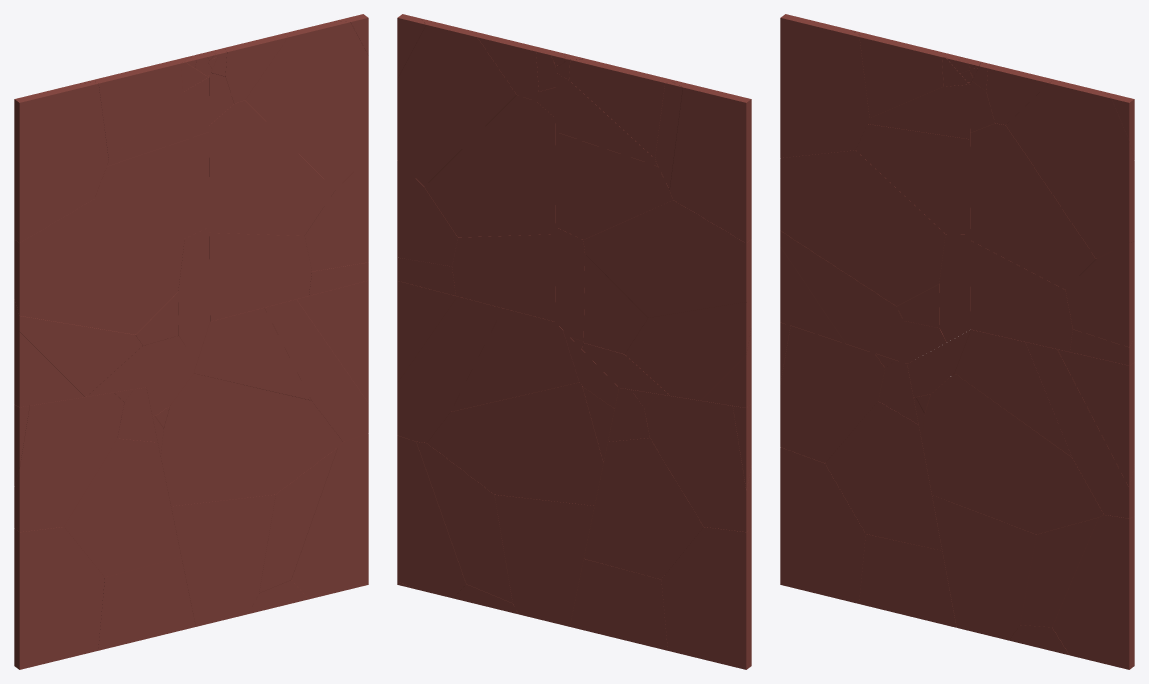
The model's file is wall03_Cx.fbx.
3 views of the same model, side by side, from view 1: azimuth 30°, elevation 25°; view 2: azimuth 150°, elevation 25°; view 3: azimuth 330°, elevation 25° (orthographic).
Parts seen in each view (by area): view 1: wall03_C.001_cell.002_cell.010, wall03_C.001_cell.003_cell.005, wall03_C.001_cell.004_cell.005, wall03_C.001_cell.004_cell.008, wall03_C.001_cell.002_cell, wall03_C.001_cell.001_cell, wall03_C.001_cell.001_cell.003, wall03_C.001_cell.001_cell.007, wall03_C.001_cell.003_cell.008, wall03_C.001_cell.003_cell, wall03_C.001_cell.002_cell.007, wall03_C.001_cell.004_cell.002 (+20 smaller); view 2: wall03_C.001_cell.003_cell.005, wall03_C.001_cell.002_cell.010, wall03_C.001_cell.004_cell.008, wall03_C.001_cell.004_cell.005, wall03_C.001_cell.001_cell.003, wall03_C.001_cell.001_cell, wall03_C.001_cell.002_cell, wall03_C.001_cell.001_cell.007, wall03_C.001_cell.003_cell.008, wall03_C.001_cell.002_cell.009, wall03_C.001_cell.002_cell.007, wall03_C.001_cell.003_cell.004 (+23 smaller); view 3: wall03_C.001_cell.003_cell.005, wall03_C.001_cell.002_cell.010, wall03_C.001_cell.004_cell.005, wall03_C.001_cell.004_cell.008, wall03_C.001_cell.002_cell, wall03_C.001_cell.001_cell.003, wall03_C.001_cell.001_cell.007, wall03_C.001_cell.001_cell, wall03_C.001_cell.003_cell.008, wall03_C.001_cell.003_cell, wall03_C.001_cell.002_cell.007, wall03_C.001_cell.004_cell.002 (+20 smaller).
Boxes of the visible parts, x1,y1,x2,y2 form: wall03_C.001_cell.002_cell.010: (14, 199, 184, 334); wall03_C.001_cell.003_cell.005: (160, 373, 342, 506); wall03_C.001_cell.004_cell.005: (245, 21, 368, 189); wall03_C.001_cell.004_cell.008: (209, 100, 334, 235); wall03_C.001_cell.002_cell: (14, 82, 108, 242); wall03_C.001_cell.001_cell: (14, 527, 104, 669); wall03_C.001_cell.001_cell.003: (64, 438, 181, 577); wall03_C.001_cell.001_cell.007: (14, 392, 124, 532); wall03_C.001_cell.003_cell.008: (171, 494, 275, 626); wall03_C.001_cell.003_cell: (291, 433, 368, 599); wall03_C.001_cell.002_cell.007: (95, 132, 209, 238); wall03_C.001_cell.004_cell.002: (209, 233, 311, 321); wall03_C.001_cell.003_cell.005: (427, 382, 603, 505); wall03_C.001_cell.002_cell.010: (583, 200, 751, 317); wall03_C.001_cell.004_cell.008: (424, 95, 555, 237); wall03_C.001_cell.004_cell.005: (397, 18, 516, 186); wall03_C.001_cell.001_cell.003: (584, 438, 703, 579); wall03_C.001_cell.001_cell: (661, 527, 751, 669); wall03_C.001_cell.002_cell: (669, 80, 751, 243); wall03_C.001_cell.001_cell.007: (644, 394, 751, 531); wall03_C.001_cell.003_cell.008: (494, 494, 594, 626); wall03_C.001_cell.002_cell.009: (625, 302, 751, 400); wall03_C.001_cell.002_cell.007: (555, 132, 672, 239); wall03_C.001_cell.003_cell.004: (397, 296, 502, 442); wall03_C.001_cell.003_cell.005: (921, 373, 1103, 534); wall03_C.001_cell.002_cell.010: (780, 150, 945, 306); wall03_C.001_cell.004_cell.005: (1006, 80, 1134, 258); wall03_C.001_cell.004_cell.008: (970, 123, 1095, 289); wall03_C.001_cell.002_cell: (780, 14, 869, 157); wall03_C.001_cell.001_cell.003: (825, 401, 942, 550); wall03_C.001_cell.001_cell.007: (780, 326, 885, 463); wall03_C.001_cell.001_cell: (780, 447, 865, 603); wall03_C.001_cell.003_cell.008: (932, 495, 1036, 640); wall03_C.001_cell.003_cell: (1052, 515, 1134, 668); wall03_C.001_cell.002_cell.007: (856, 124, 970, 234); wall03_C.001_cell.004_cell.002: (970, 241, 1072, 351).
Bounding box in the file's own units: 787 × 1222 × 20.22.
